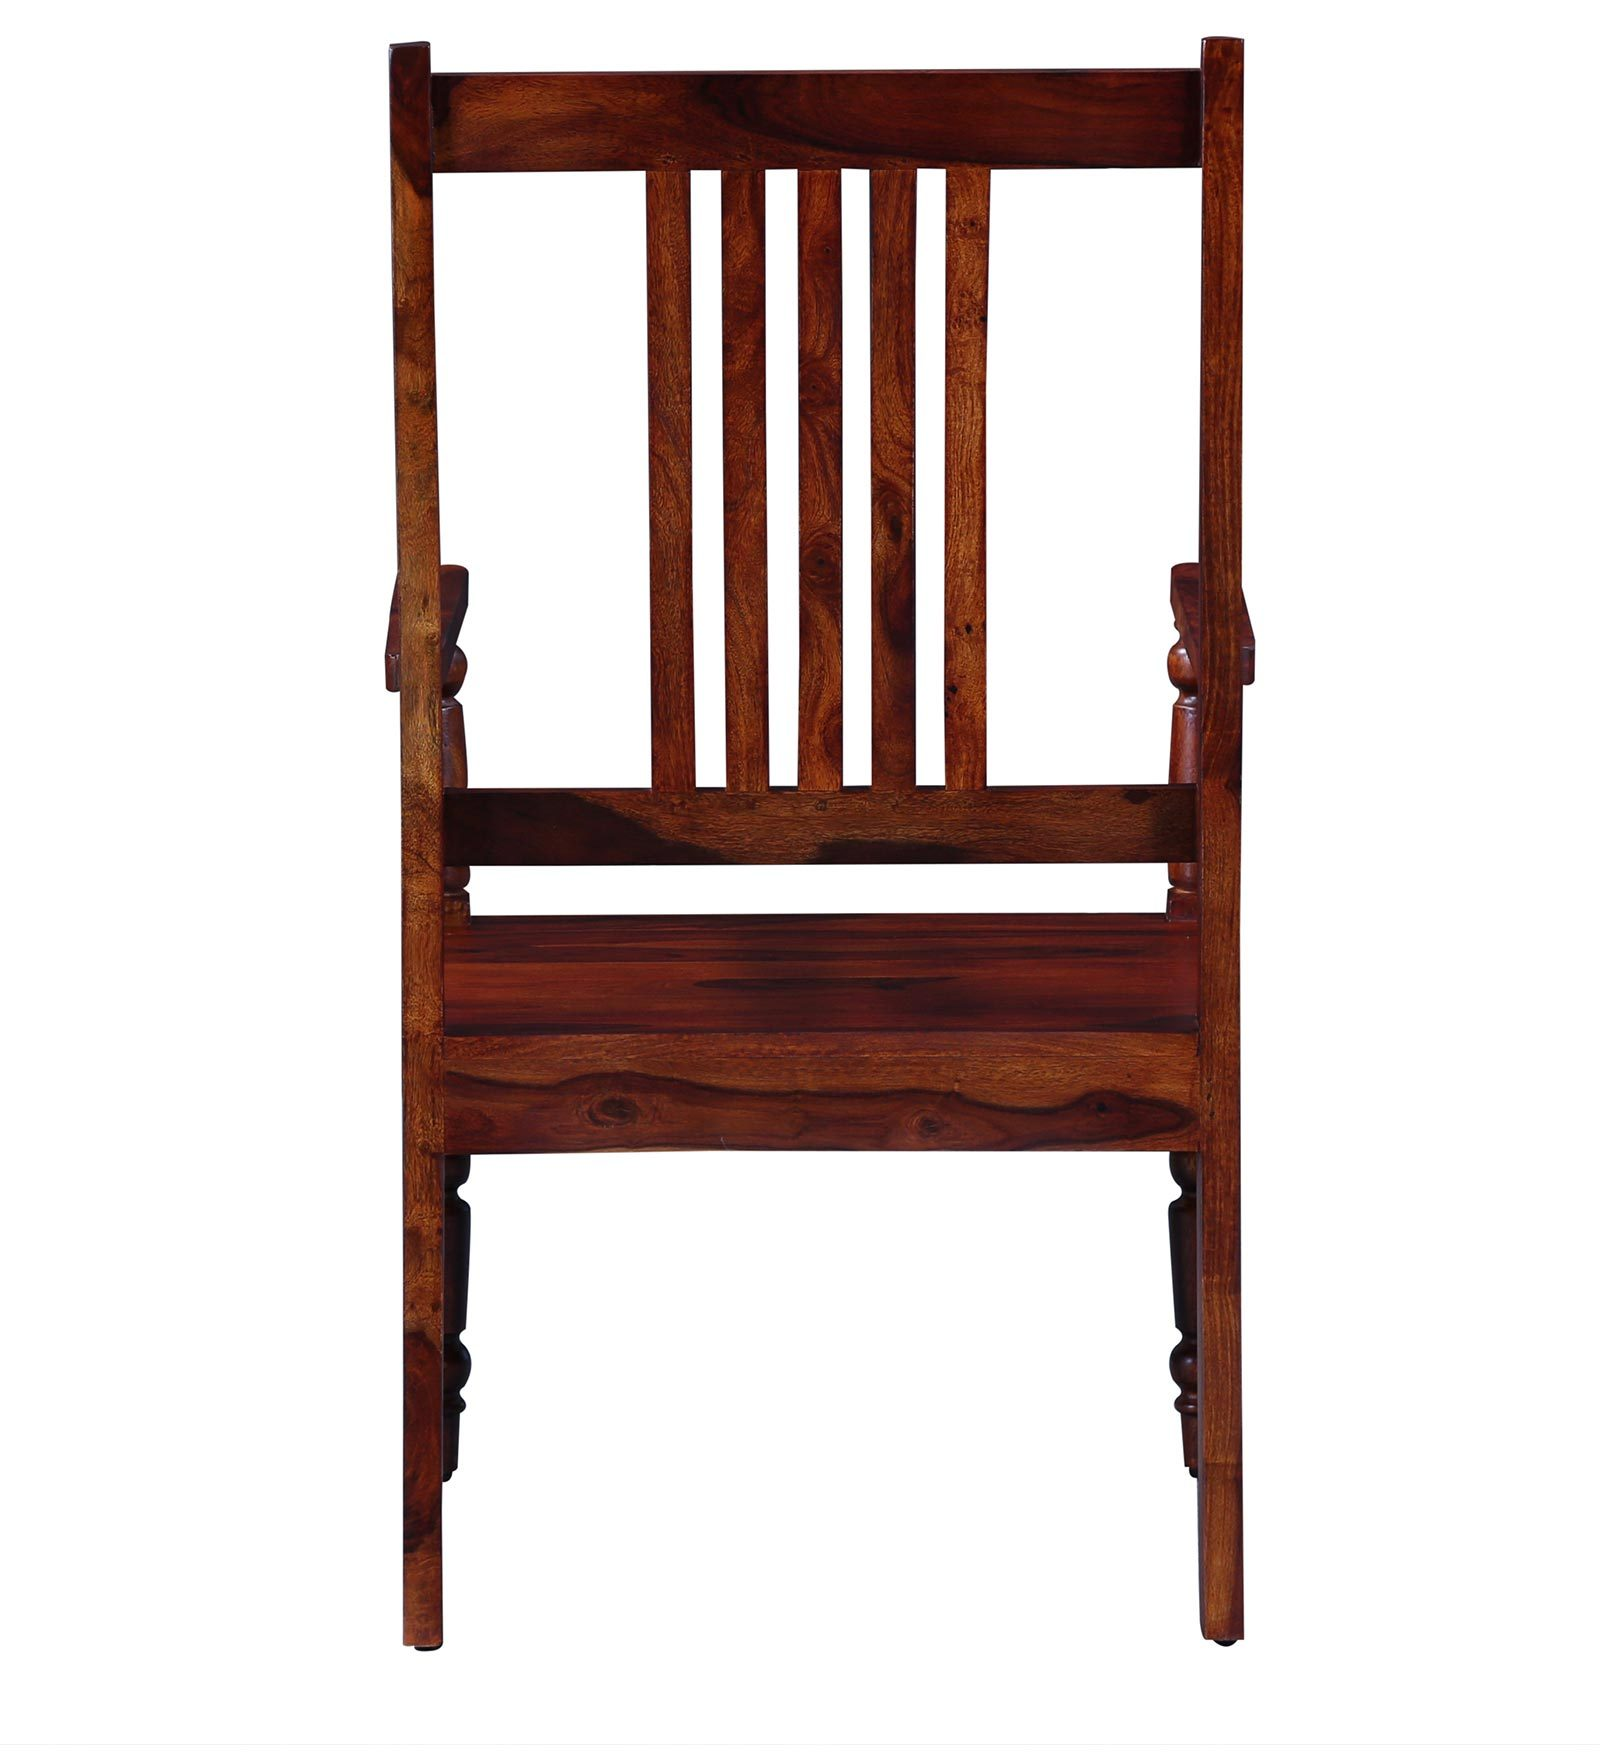Harleston Arm Chair in Honey Oak Finish by Amberville: (310, 28, 1313, 1688)
